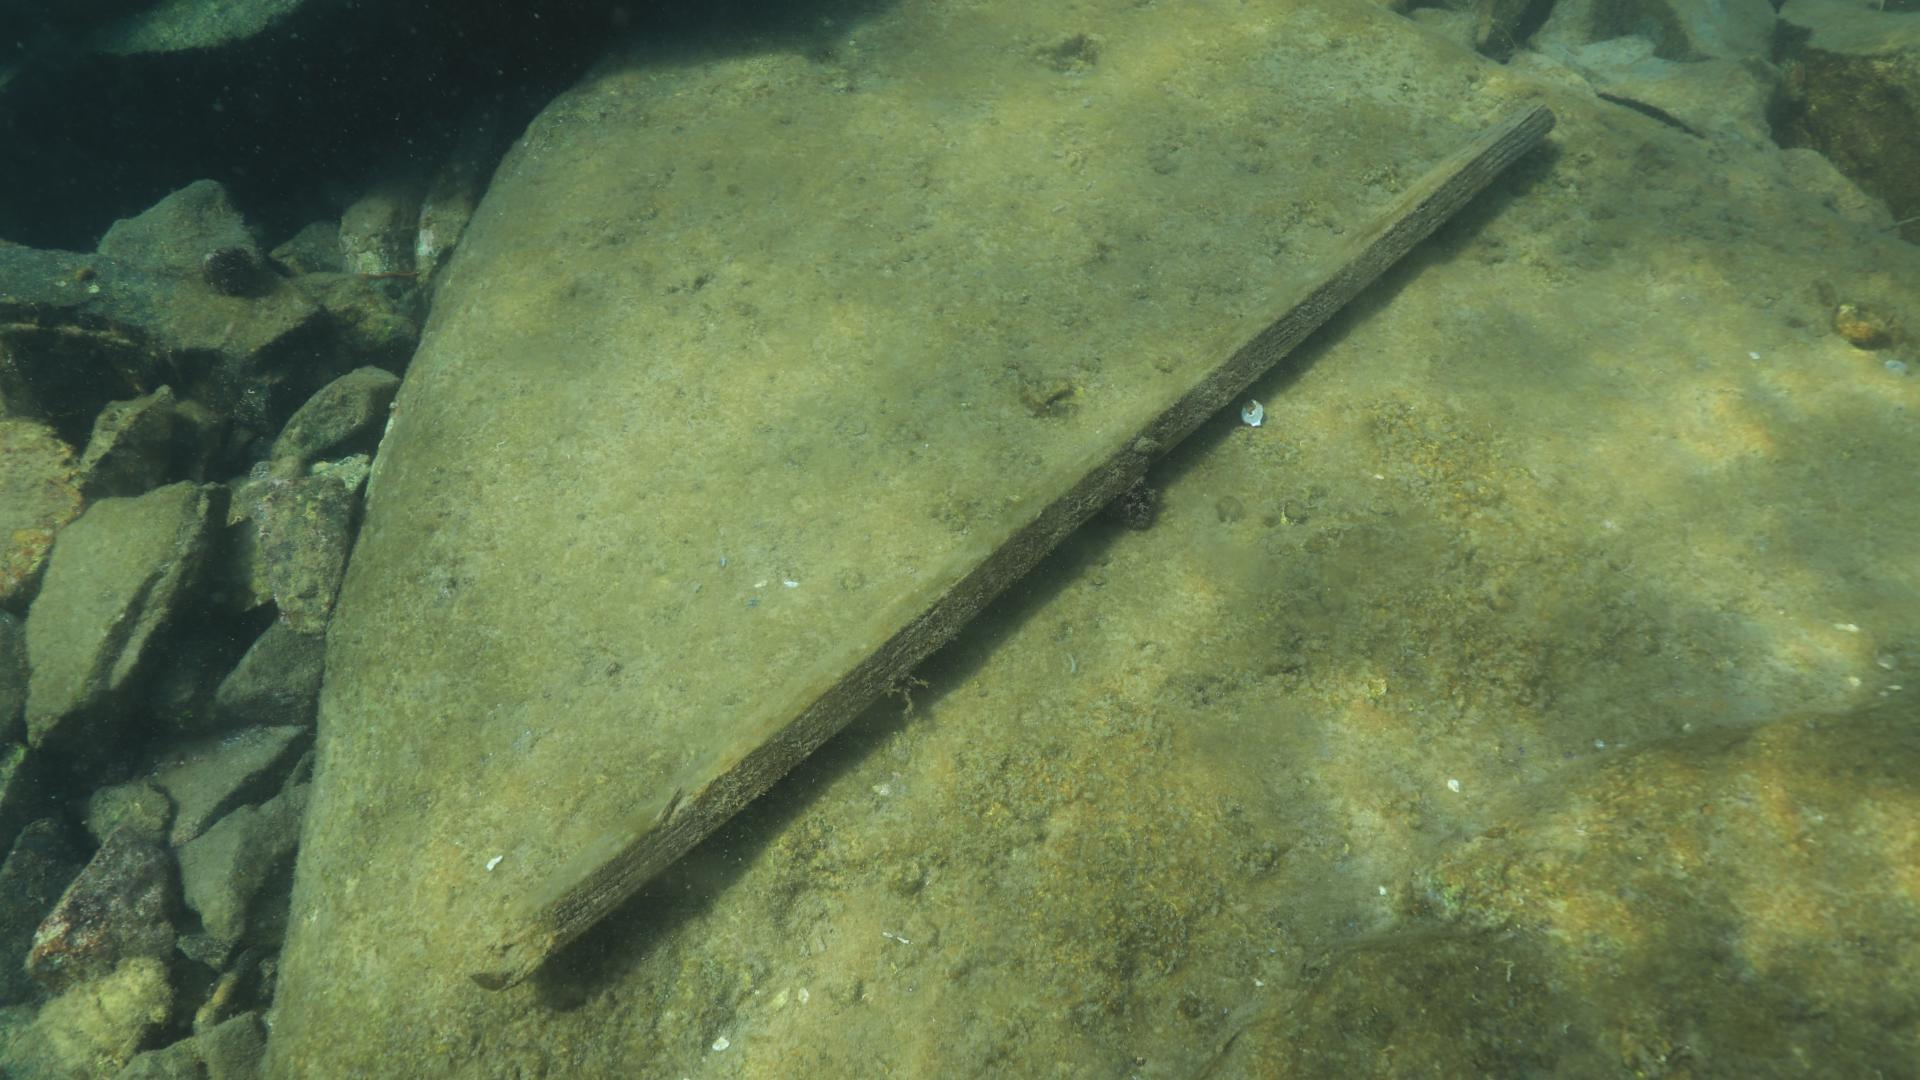wood: (464, 100, 1555, 989)
